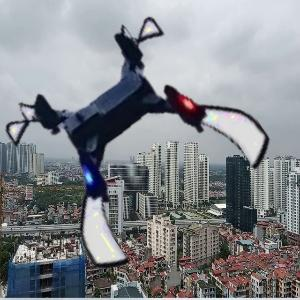drone: (29, 29, 252, 252)
